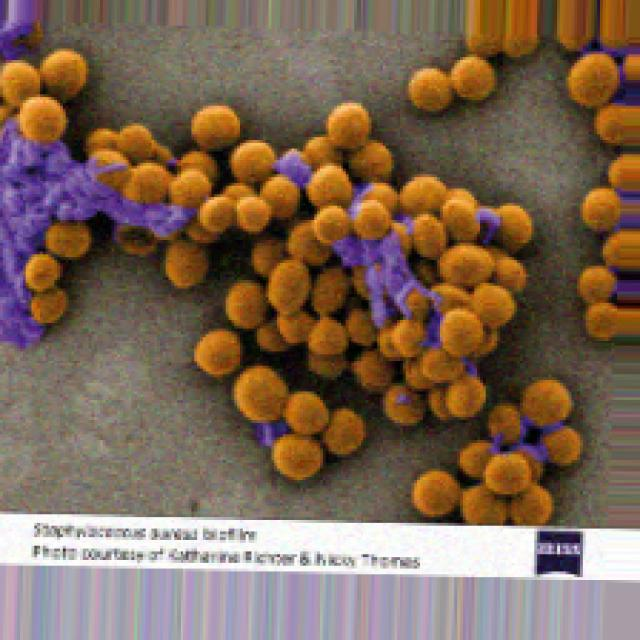Spherical_bacteria: (0, 17, 637, 523)
